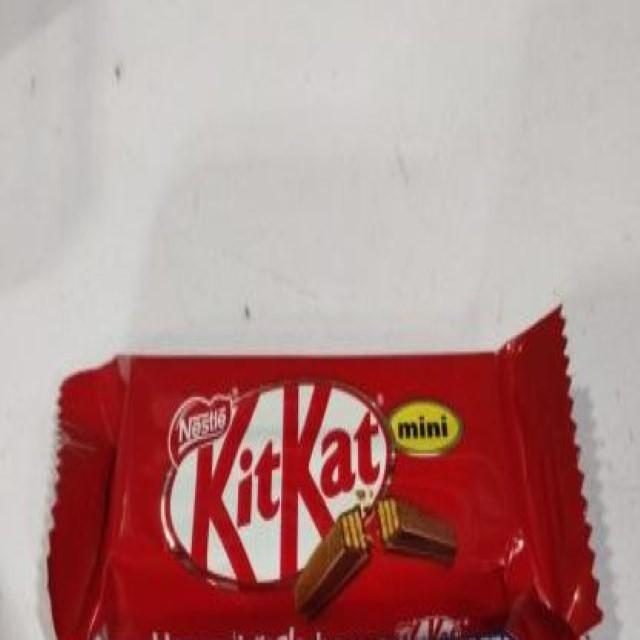kitkat_chocolate: (65, 321, 585, 640)
